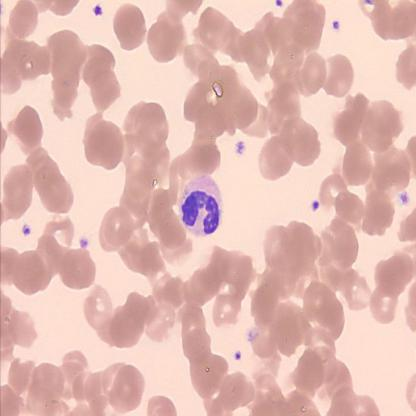Band Neutrophil: (177, 172, 224, 238)
